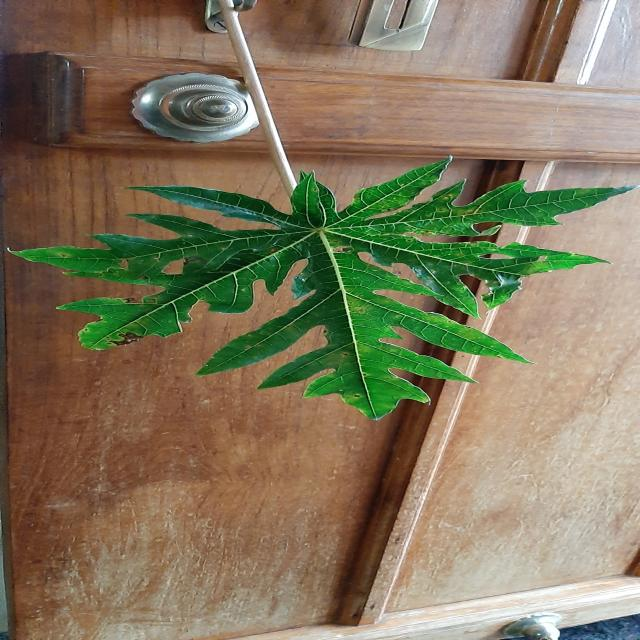papaya: (14, 160, 634, 419)
